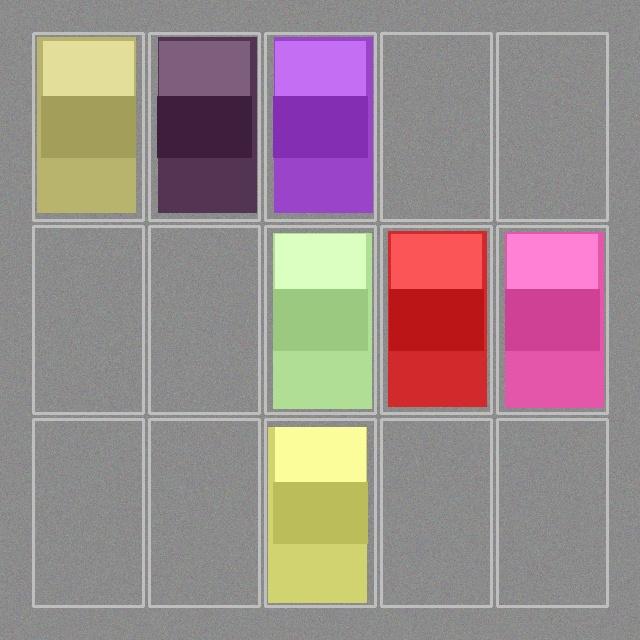space-empty: (383, 35, 489, 218), (499, 35, 605, 218), (35, 228, 141, 411), (151, 228, 257, 411), (35, 421, 141, 604), (151, 421, 257, 604), (383, 421, 489, 604), (499, 421, 605, 604)
space-occupied: (35, 35, 141, 218), (151, 35, 257, 218), (267, 35, 373, 218), (267, 228, 373, 411), (383, 228, 489, 411), (499, 228, 605, 411), (267, 421, 373, 604)
